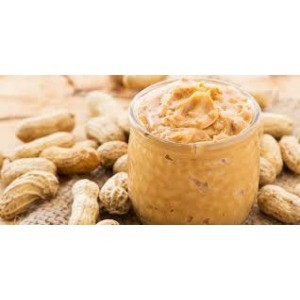peanut butter_brain food: (142, 91, 241, 167)
